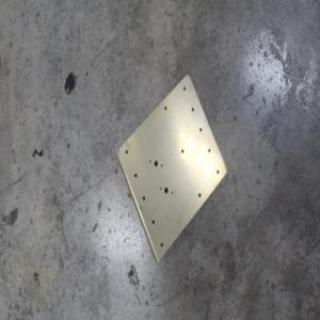MetalSheettrack_idkeyframe: (114, 72, 227, 265)
